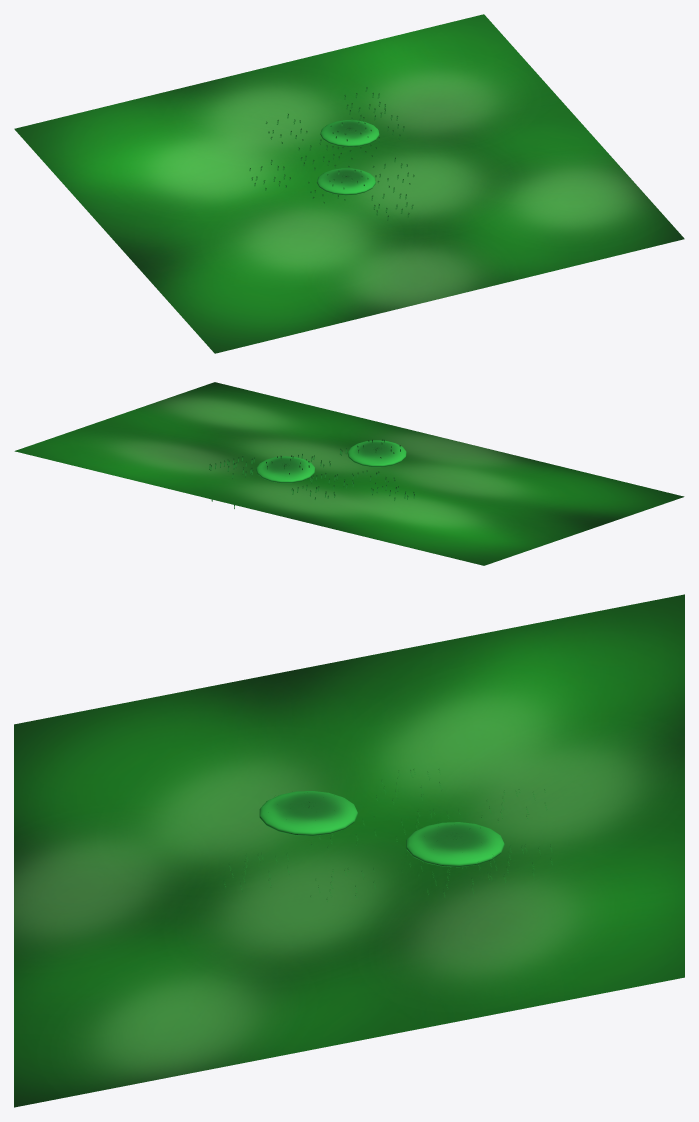
File: Escenario Ponyta.fbx
3 views of the same model, one above another, from view 1: azimuth 30°, elevation 25°; view 2: azimuth 150°, elevation 25°; view 3: azimuth 270°, elevation 25° (orthographic). The views are drawn at different scales.
Visible parts, largest first — view 1: Suelo, Base.001, Base, Hierba.Suelo; view 2: Suelo, Base, Base.001, Hierba.Suelo; view 3: Suelo, Base, Base.001.
Boxes of the visible parts, <box> form: Suelo: <box>14,14,684,353</box>; Base.001: <box>316,168,375,195</box>; Base: <box>320,120,379,146</box>; Hierba.Suelo: <box>249,87,414,220</box>; Suelo: <box>14,382,684,565</box>; Base: <box>256,456,315,483</box>; Base.001: <box>347,440,406,467</box>; Hierba.Suelo: <box>209,439,414,508</box>; Suelo: <box>14,594,684,1107</box>; Base: <box>406,822,504,867</box>; Base.001: <box>259,791,357,835</box>.
Size of the model in its own units: 2768 by 438 by 2049.
